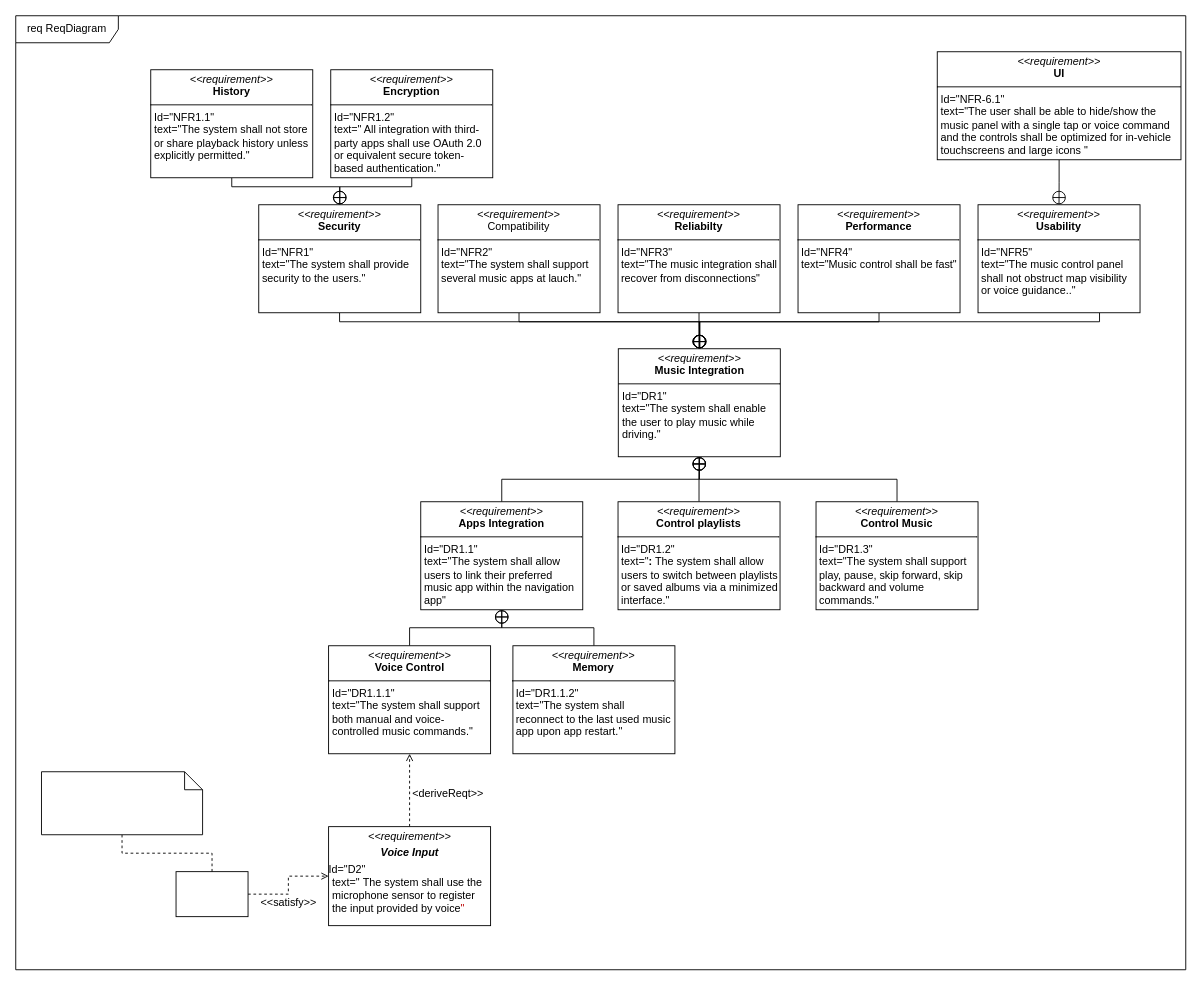
The diagram is 1202 pixels wide and 986 high, and some of its shapes have lost their labels. Each missing label, with the box of its shape:
<<block>> Microphone: (175, 871, 248, 917)
satisfies <<requirement>> Voice Input: (41, 771, 203, 835)
